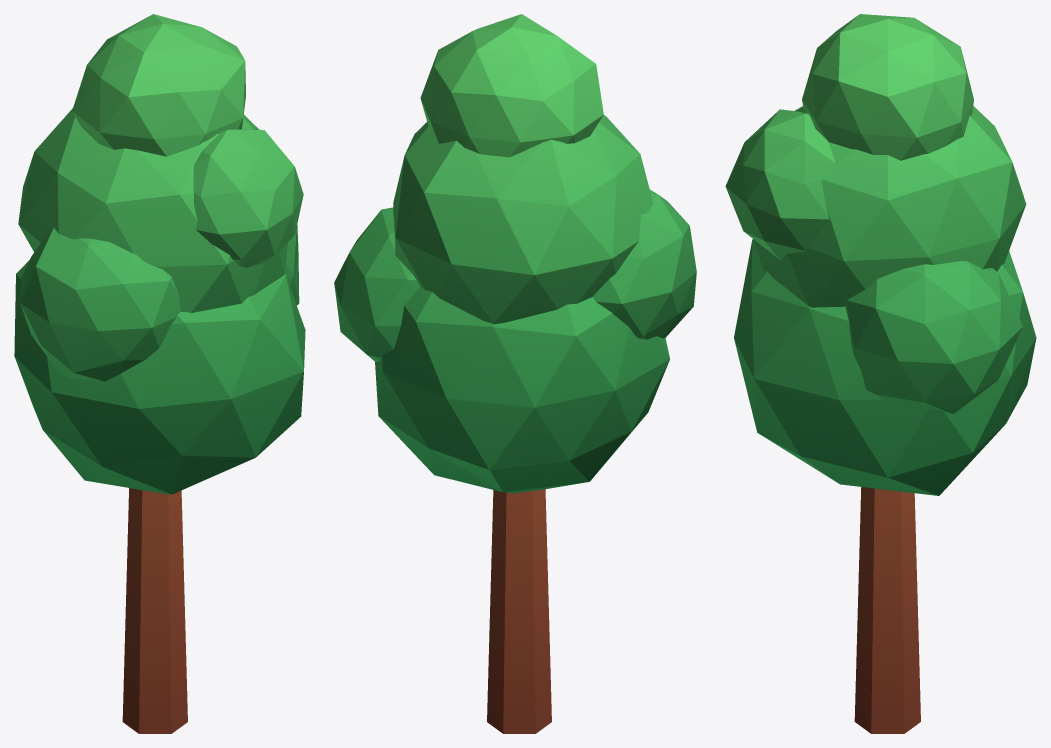
File: arbol_B.glb
3 views of the same model, side by side, from view 1: azimuth 30°, elevation 25°; view 2: azimuth 150°, elevation 25°; view 3: azimuth 270°, elevation 25° (orthographic).
Visible parts, largest first — view 1: arbol_B; view 2: arbol_B; view 3: arbol_B.
Boxes of the visible parts, x1,y1,x2,y2 form: arbol_B: (14,14,305,733); arbol_B: (334,14,696,733); arbol_B: (725,14,1036,733).
Bounding box in the file's own units: 1.9 × 4.23 × 1.69.
Materials: 1 (1 with a texture image).
